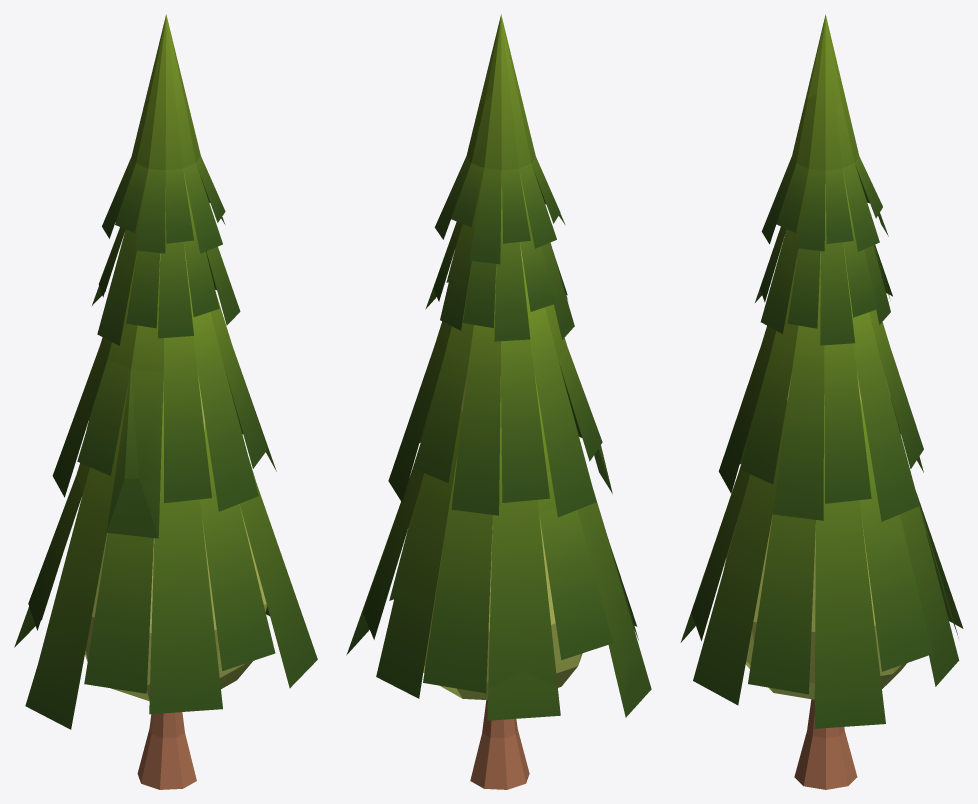
Rendered from Tree_00.fbx.
3 views of the same model, side by side, from view 1: azimuth 30°, elevation 25°; view 2: azimuth 150°, elevation 25°; view 3: azimuth 270°, elevation 25° (orthographic).
Parts seen in each view (by area): view 1: Tree_00; view 2: Tree_00; view 3: Tree_00.
Boxes of the visible parts, box(x1,y1,x2,y2) form: Tree_00: box(14, 14, 317, 789); Tree_00: box(346, 14, 651, 789); Tree_00: box(680, 14, 963, 789).
Size of the model in its own units: 100 by 274 by 92.18.
1 material, 1 textured.
